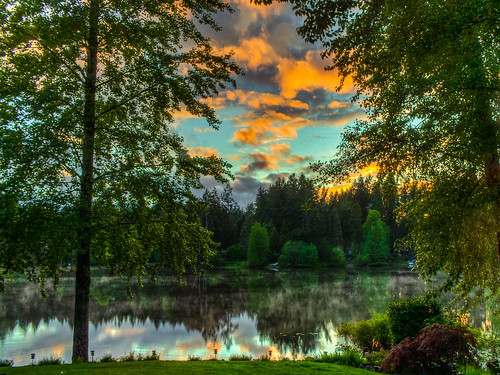river: (1, 269, 440, 369)
sky: (188, 1, 368, 178)
tree: (1, 1, 218, 312), (304, 1, 500, 291)
vegetation: (203, 190, 407, 268)
